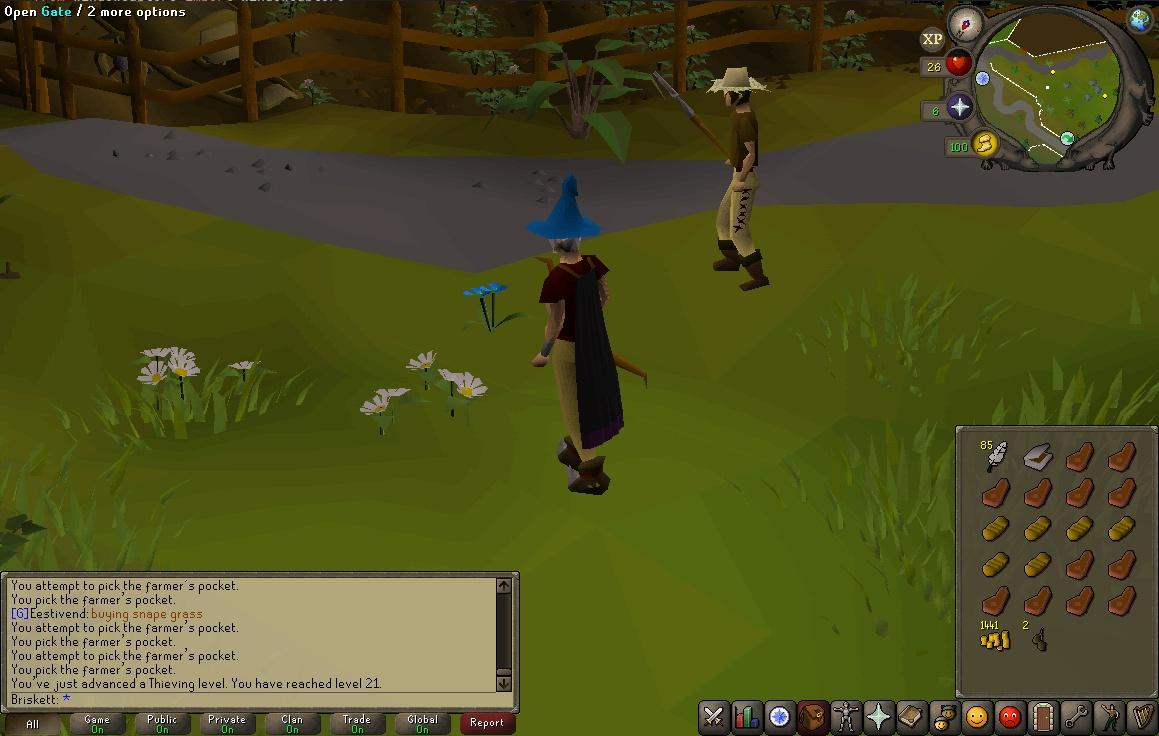Farmer: (707, 67, 772, 292)
